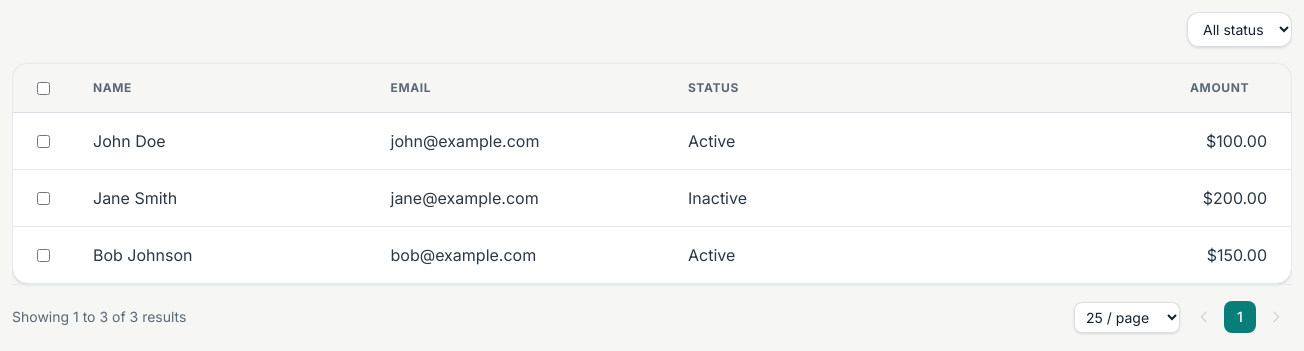
Test: DataTable › Row Selection › selects all rows when header checkbox clicked
Click the checkbox named "Select all": [44, 88] box [37,82,50,94]
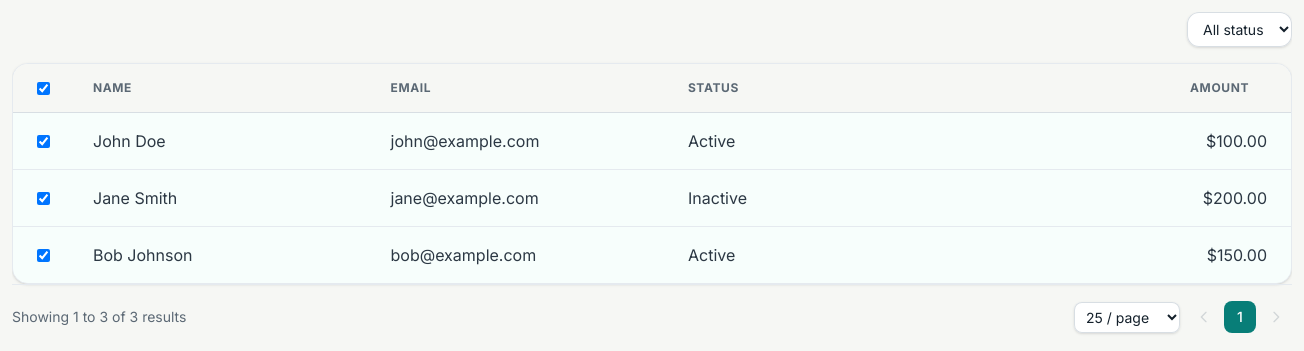
Check: the checkbox named "Select all rows" is checked, box [37,82,50,94]
Check: the checkbox named "Select John Doe" is checked, box [37,134,50,148]
Check: the checkbox named "Select Jane Smith" is checked, box [37,192,50,204]
